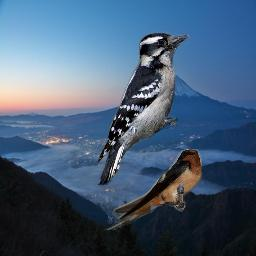Swallow: (103, 149, 202, 230)
Woodpecker: (97, 30, 190, 187)
